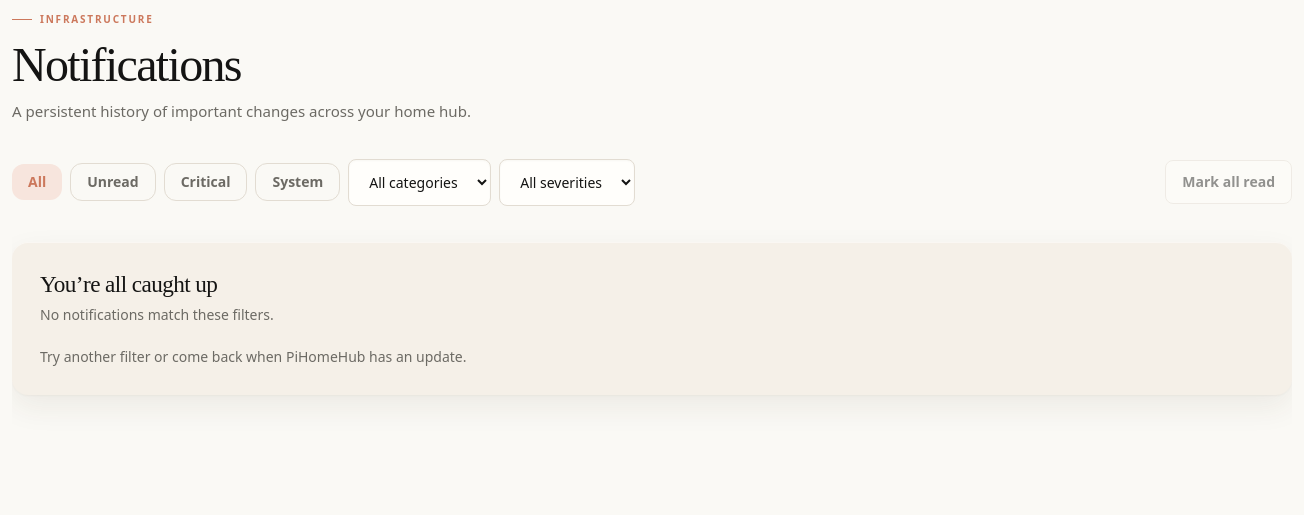
Scenario: NotificationsPage › loads recent history, applies filters, and offers a retry on failure
expect the heading "You’re all caught up" is shown: met, box [40,271,217,297]
Click the button "critical" at (206, 182), box [164,163,248,201]
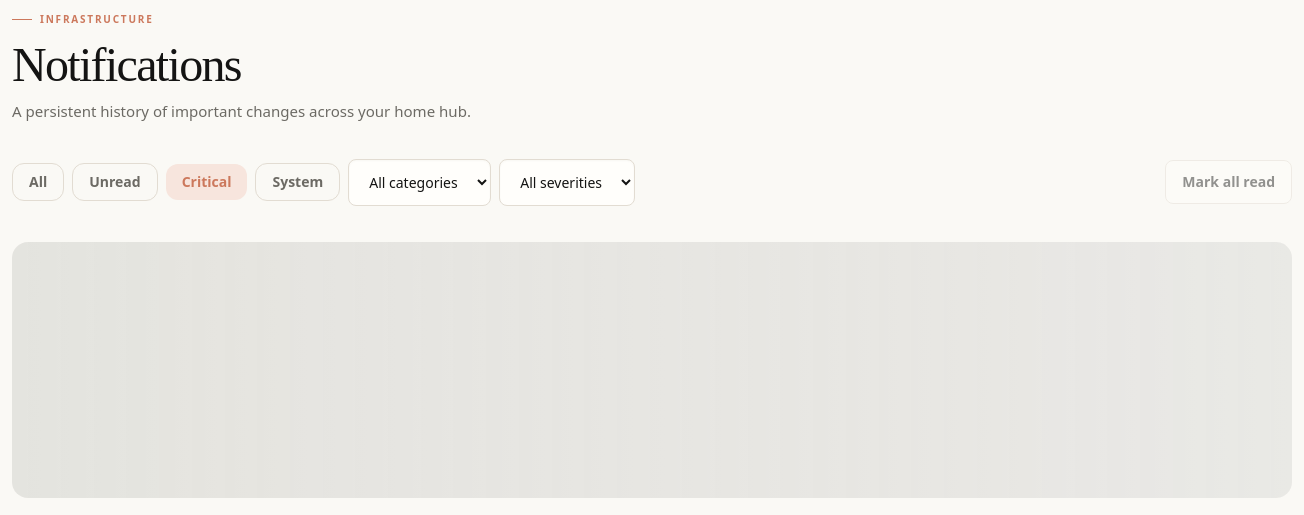
Select "Service" in the 1st dropdown named "Category" at (420, 182), box [348,159,491,206]
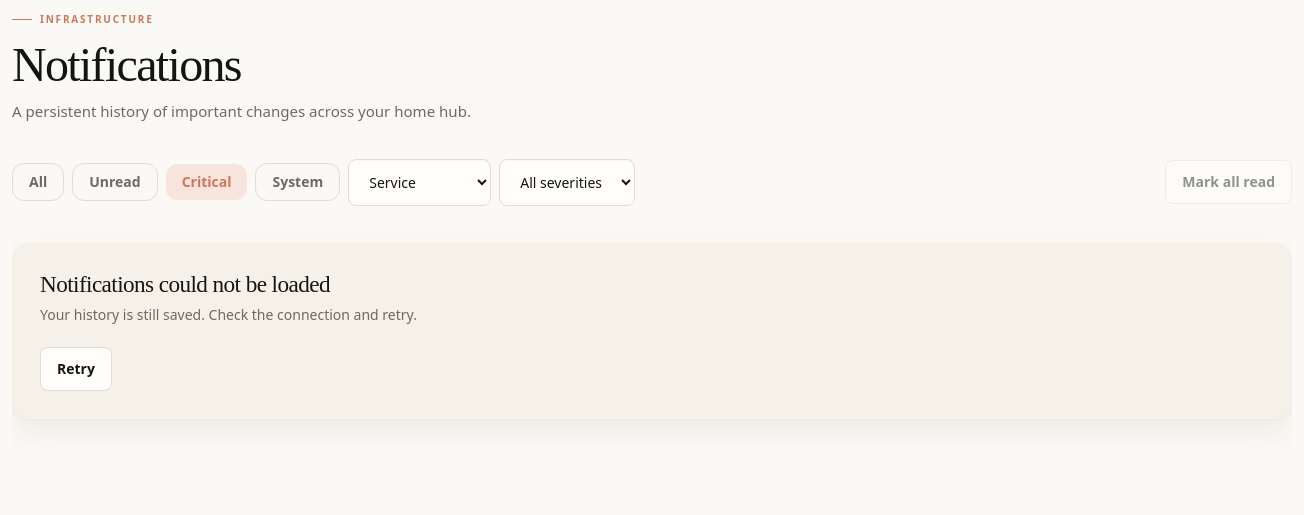
expect the heading "Notifications could not be loaded" is shown: met, box [40,271,330,297]
Click the button "Retry" at (76, 369), box [40,347,112,391]
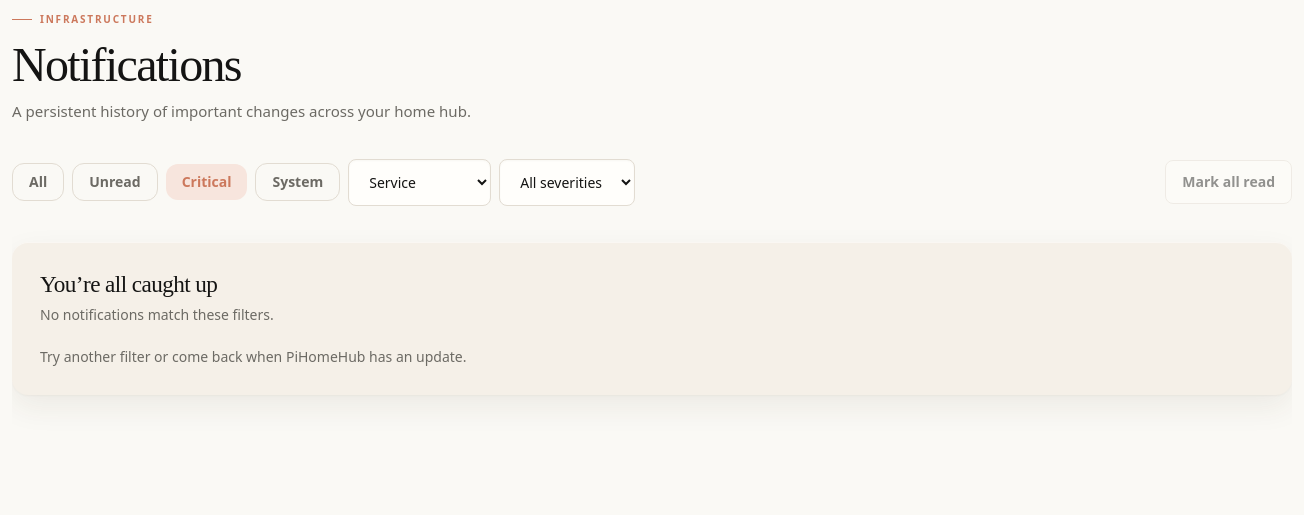
expect the heading "You’re all caught up" is shown: met, box [40,271,217,297]
